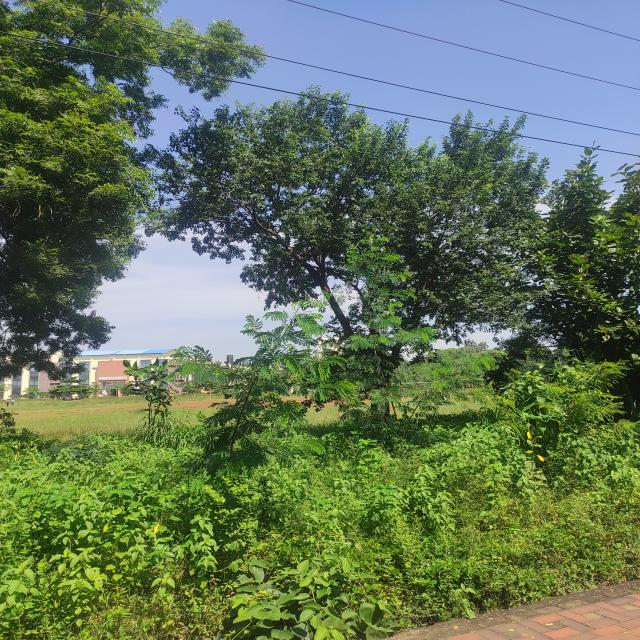Devakanchan tree: (197, 94, 500, 362)
Neem Tree: (1, 53, 174, 332)
